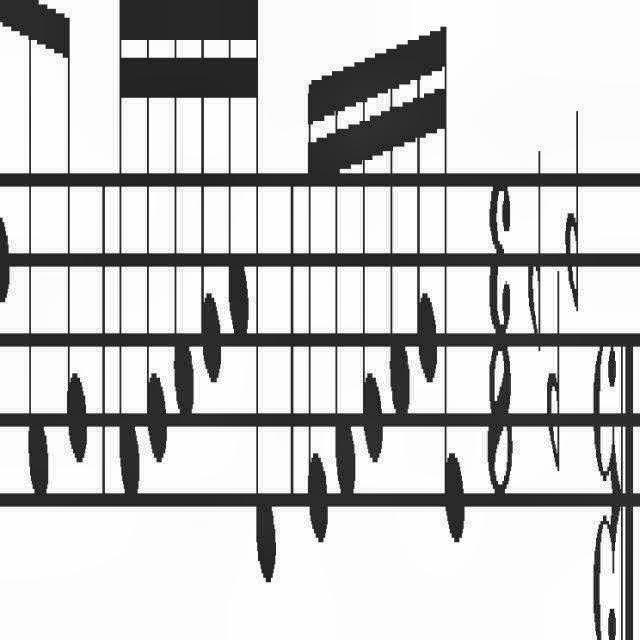Bemol: (562, 82, 588, 318), (524, 118, 548, 354), (544, 262, 564, 490)
Eighth-note: (21, 1, 54, 512), (64, 0, 92, 476), (0, 0, 16, 328)
Sixteenth-note: (438, 6, 486, 570), (251, 0, 281, 608), (303, 46, 331, 574), (114, 0, 140, 516), (332, 53, 360, 527), (359, 47, 385, 505), (412, 0, 440, 418), (146, 0, 170, 462), (387, 20, 413, 444), (198, 0, 224, 396), (172, 0, 194, 440), (227, 0, 250, 348)
